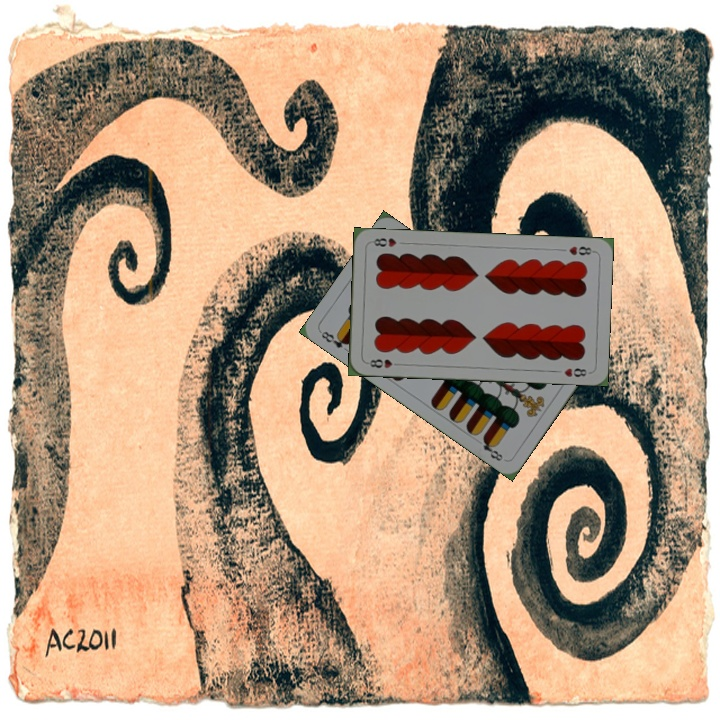E8: (317, 327, 353, 351)
H8: (363, 355, 404, 371), (565, 242, 597, 258)
